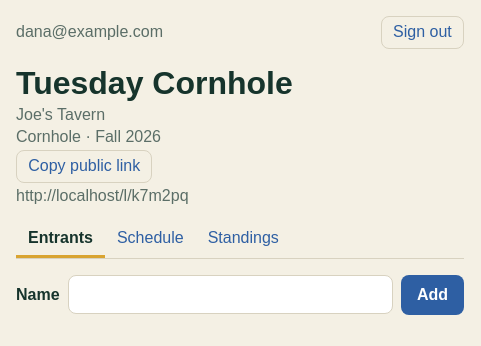
Scenario: the public link is shown as text so it can be shared when copying is unavailable
Click the button "Copy public link" at (84, 166), box [16,150,152,183]
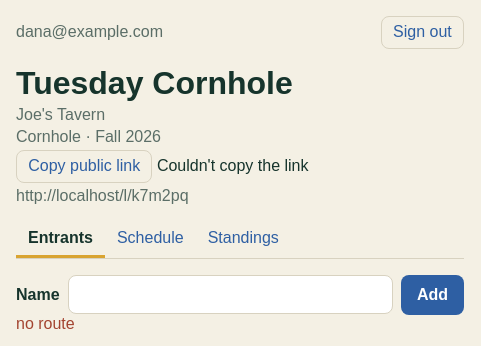
Result: the text "Couldn't copy the link" is shown at [157,157,308,174]
